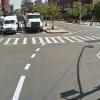Crosswalk: (6, 35, 94, 49)
